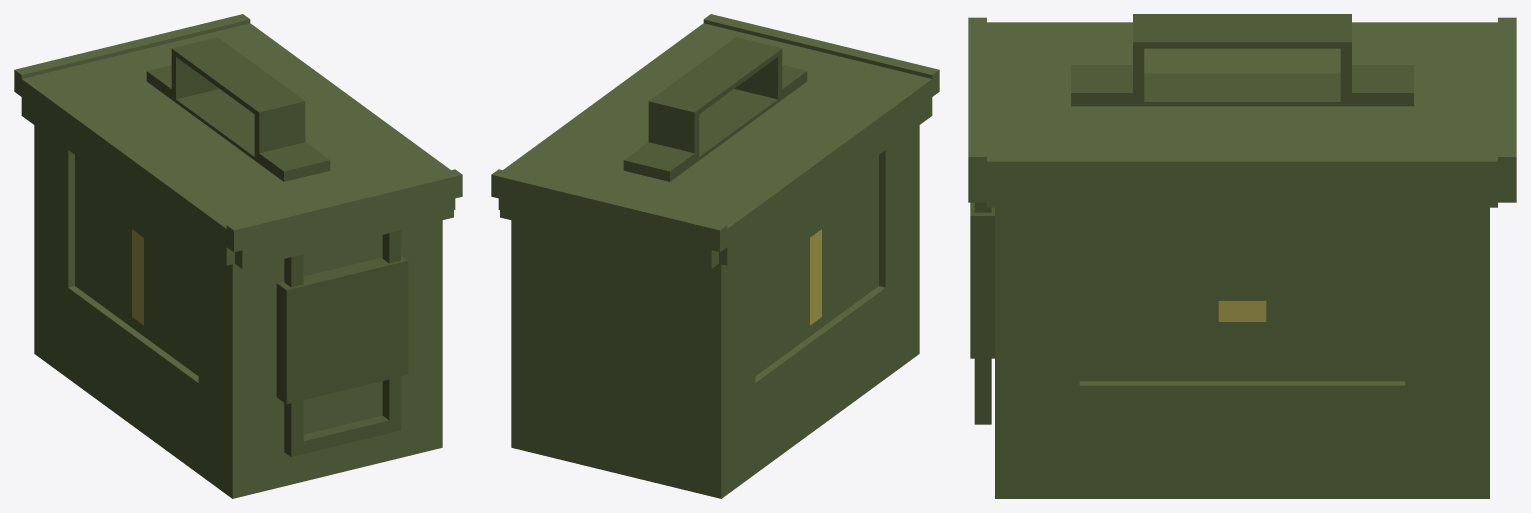
File: ammoBox.fbx
3 renders of one model, left to right at view 1: azimuth 30°, elevation 25°; view 2: azimuth 150°, elevation 25°; view 3: azimuth 270°, elevation 25°, orthographic. The views are drawn at different scales.
Visible parts, largest first — view 1: ammoBox_base, ammoBox_top; view 2: ammoBox_base, ammoBox_top; view 3: ammoBox_base, ammoBox_top.
Part boxes in pixels (x1,y1,x2,y2): ammoBox_base: (34, 125, 442, 498); ammoBox_top: (14, 14, 462, 268); ammoBox_base: (511, 125, 919, 498); ammoBox_top: (491, 14, 939, 268); ammoBox_base: (970, 202, 1489, 498); ammoBox_top: (968, 14, 1516, 207).
Bounding box in the file's own units: 23.31 × 31.75 × 38.76.
